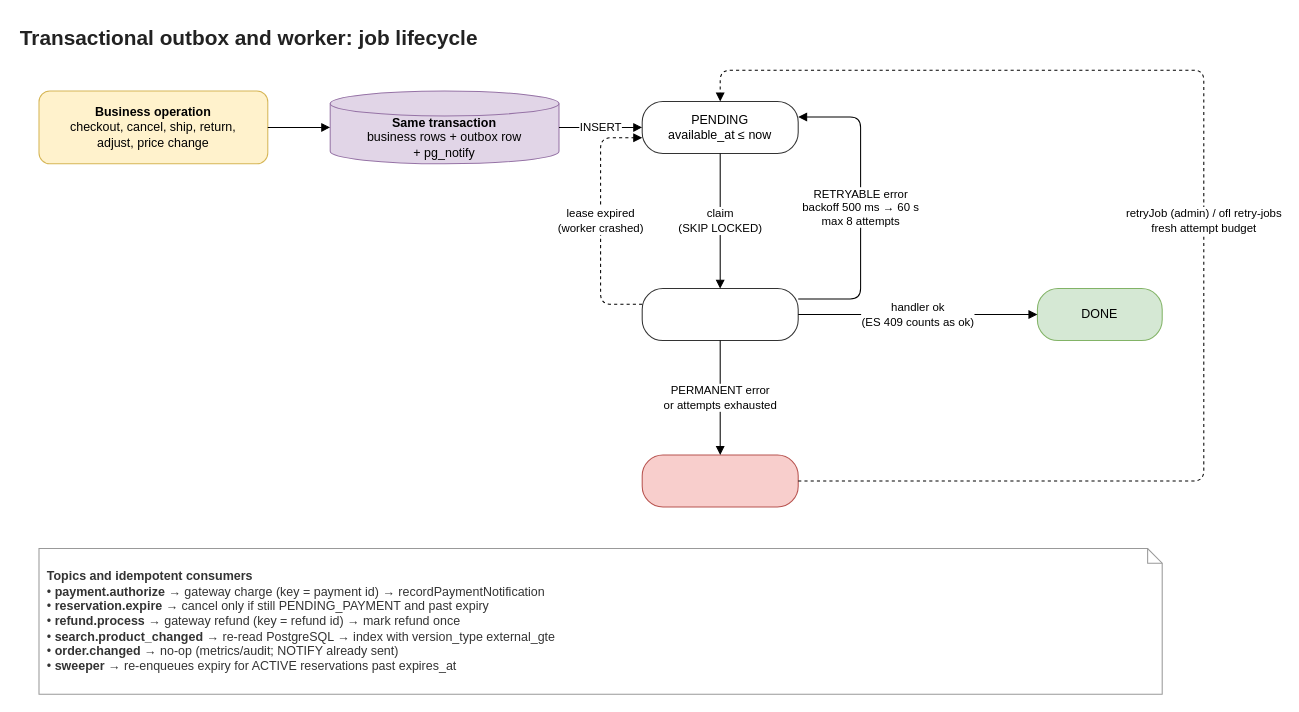
Image size: 1299x712. Some labels were removed from this diagram. The shapes that lost their labels are listed below. From the top down, each one's centre as x and y in pixels, then its label:
At (719,314): "PROCESSING lease 30 s".
At (719,480): "FAILED visible in admin".
